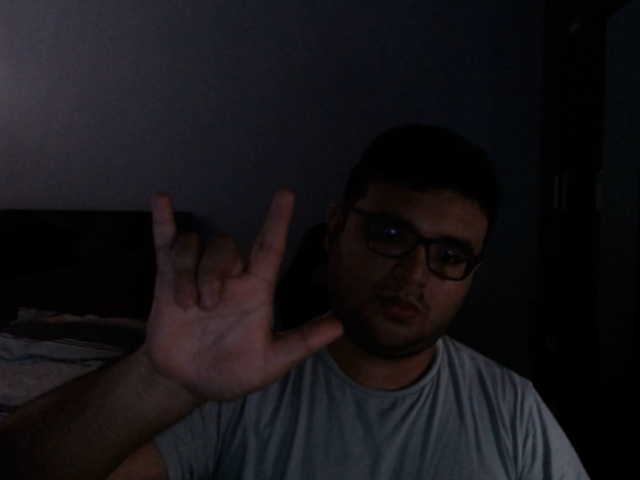I love you: (139, 186, 347, 409)
